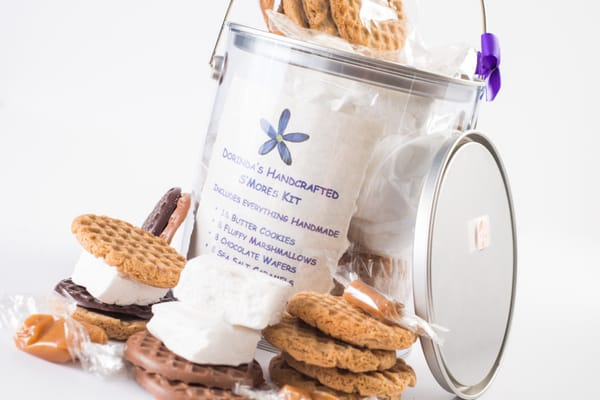soup: (261, 285, 419, 396)
